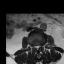CCS_normal: (36, 43, 38, 51)
LFS_severe_stenosis: (40, 43, 42, 48)
LLS_stenosis: (38, 43, 40, 49)
RFS_severe_stenosis: (32, 44, 34, 48)
RLS_stenosis: (34, 44, 36, 48)
